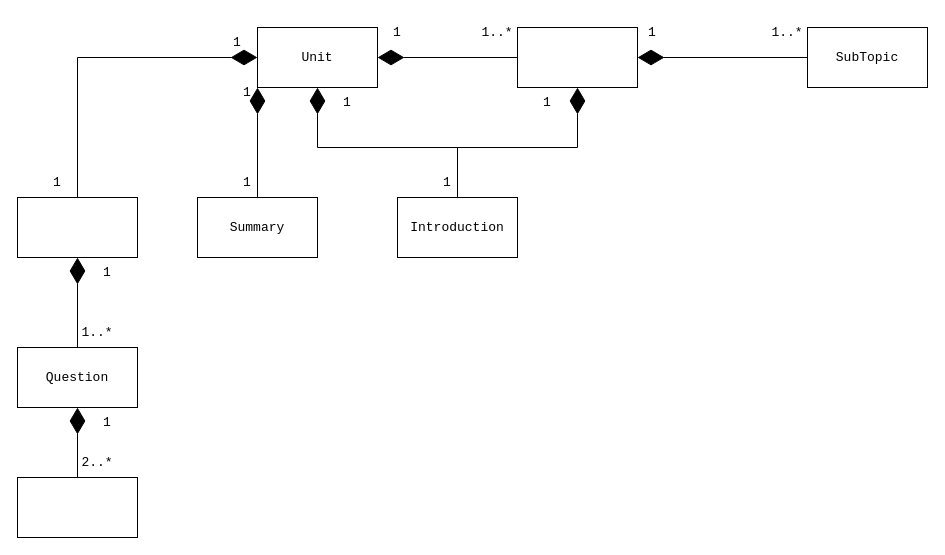
The diagram is 945 pixels wide and 555 high, and some of its shapes have lost their labels. Here are the shapes that lost their labels. From the top down, the centre of each, then its label:
At pixel 577 57: "Topic".
At pixel 77 227: "Quiz".
At pixel 77 507: "Answer".
